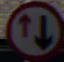Two way: (9, 4, 58, 58)
